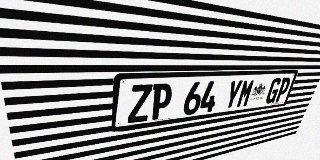4: (198, 81, 221, 113)
6: (182, 81, 205, 116)
G: (264, 78, 283, 104)
M: (236, 79, 256, 108)
P: (149, 83, 174, 120), (274, 77, 292, 103)
Y: (223, 80, 243, 110)
Z: (128, 84, 153, 124)
